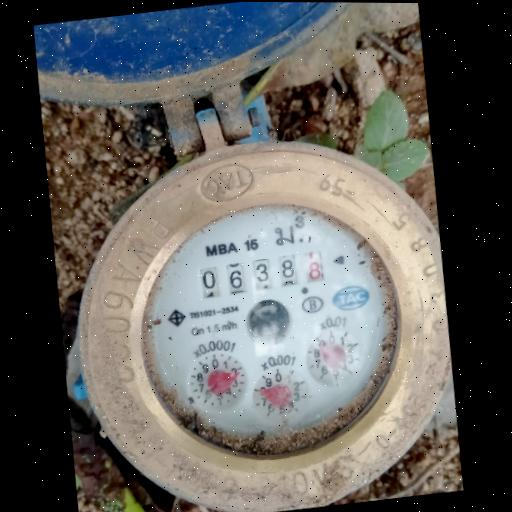0: (199, 267, 221, 298)
3: (251, 258, 273, 291)
6: (225, 262, 247, 295)
8: (303, 250, 326, 282), (277, 254, 299, 286)
border_water_meter_number: (197, 249, 327, 300)
